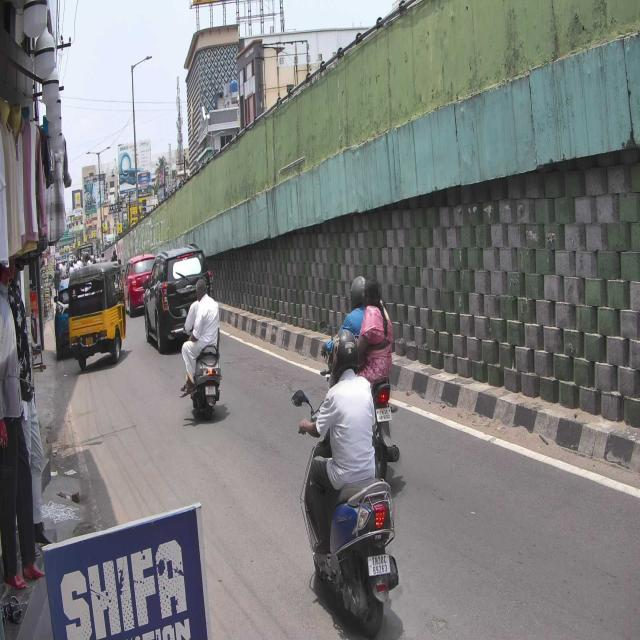single_rider: (297, 332, 400, 640)
